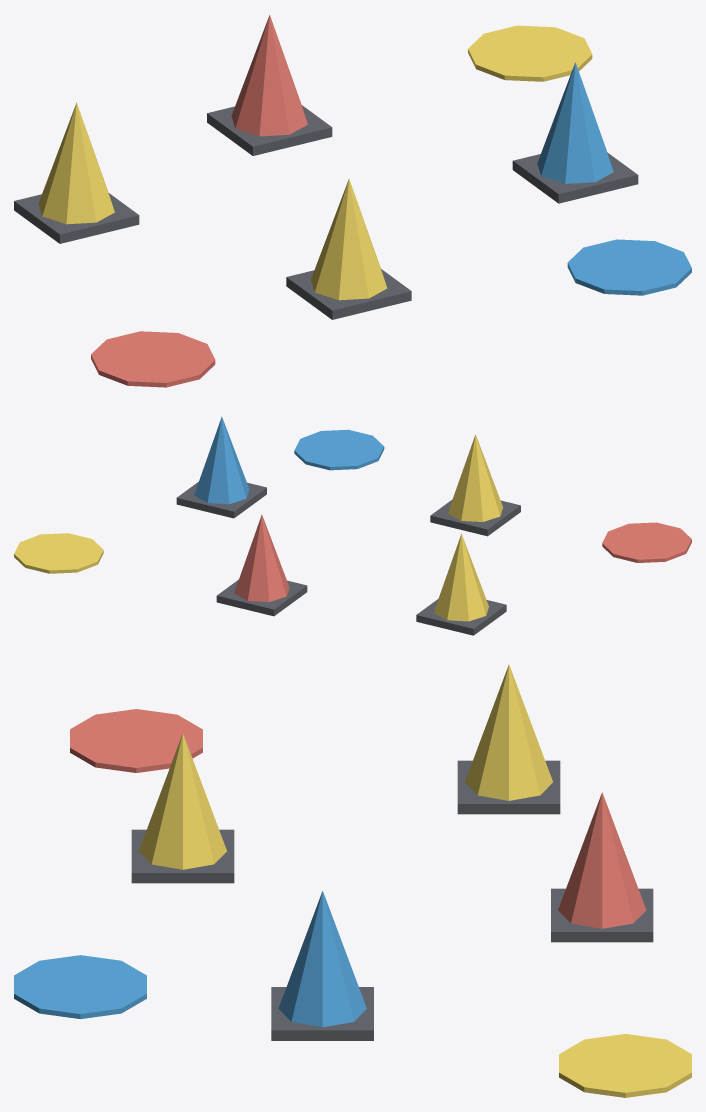
The model's file is dog-agility-and-training-field-training-cone-and-marke-6f253868__35599.glb.
The picture shows the model from 3 angles, top to bottom: view 1: azimuth 30°, elevation 25°; view 2: azimuth 150°, elevation 25°; view 3: azimuth 270°, elevation 25°; orthographic projection. The views are drawn at different scales.
Visible parts, largest first — view 1: training-cone-and-marker-set-sunflower, training-cone-and-marker-set-poppy, training-cone-and-marker-set-azure, training-cone-and-marker-set-charcoal; view 2: training-cone-and-marker-set-sunflower, training-cone-and-marker-set-poppy, training-cone-and-marker-set-azure, training-cone-and-marker-set-charcoal; view 3: training-cone-and-marker-set-sunflower, training-cone-and-marker-set-azure, training-cone-and-marker-set-poppy, training-cone-and-marker-set-charcoal.
Part boxes in pixels (bbox=[...]): training-cone-and-marker-set-sunflower: bbox=[38, 25, 592, 300]; training-cone-and-marker-set-poppy: bbox=[91, 15, 307, 387]; training-cone-and-marker-set-azure: bbox=[537, 62, 691, 295]; training-cone-and-marker-set-charcoal: bbox=[14, 105, 638, 319]; training-cone-and-marker-set-sunflower: bbox=[14, 434, 503, 621]; training-cone-and-marker-set-poppy: bbox=[234, 514, 691, 601]; training-cone-and-marker-set-azure: bbox=[194, 416, 384, 504]; training-cone-and-marker-set-charcoal: bbox=[176, 482, 520, 635]; training-cone-and-marker-set-sunflower: bbox=[139, 664, 691, 1097]; training-cone-and-marker-set-azure: bbox=[14, 891, 366, 1027]; training-cone-and-marker-set-poppy: bbox=[70, 709, 646, 928]; training-cone-and-marker-set-charcoal: bbox=[131, 760, 653, 1040].
Bounding box in the file's own units: 1.95 × 0.305 × 1.46.
